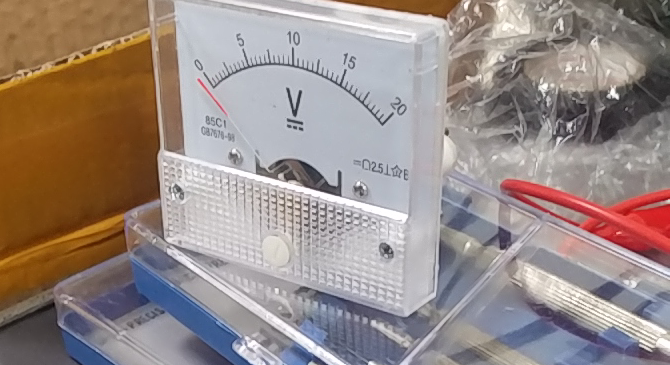Volt_Meter: (170, 2, 437, 213)
